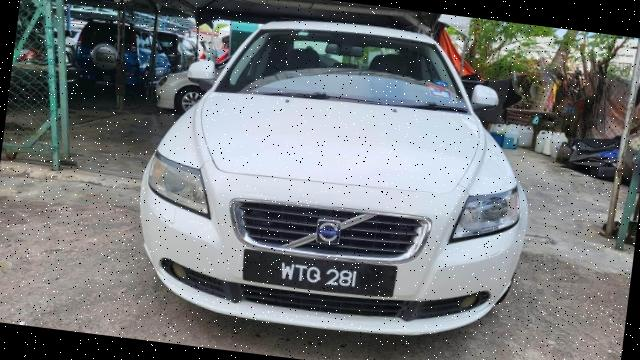License_Plate: (250, 254, 382, 299)
car: (124, 1, 549, 355)
